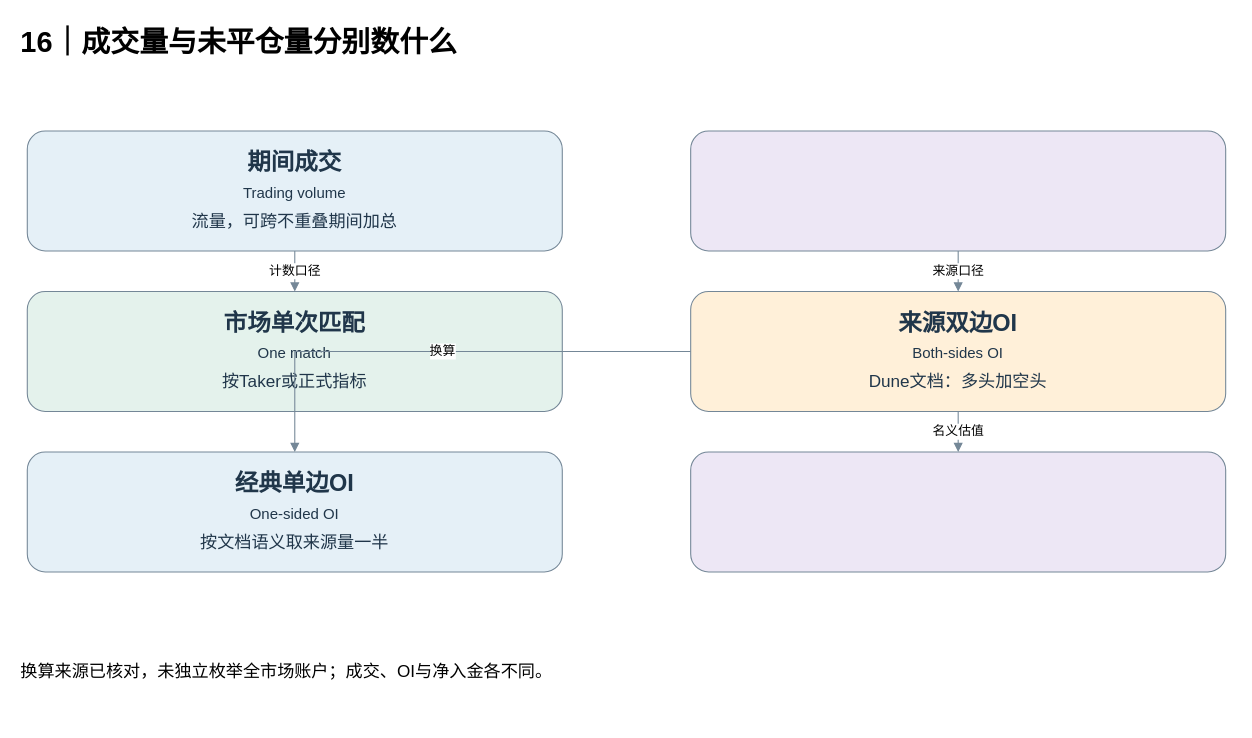
Image size: 1252x738. Some labels were removed from this diagram. The shapes that lost their labels are listed below. From the top down, each one's centre as x and y in pixels, then its label:
[958,190]: 边界持仓 Open interest 存量，不跨小时相加
[958,511]: 估值价格 Valuation basis Dune最近成交，UI文档为Mark
